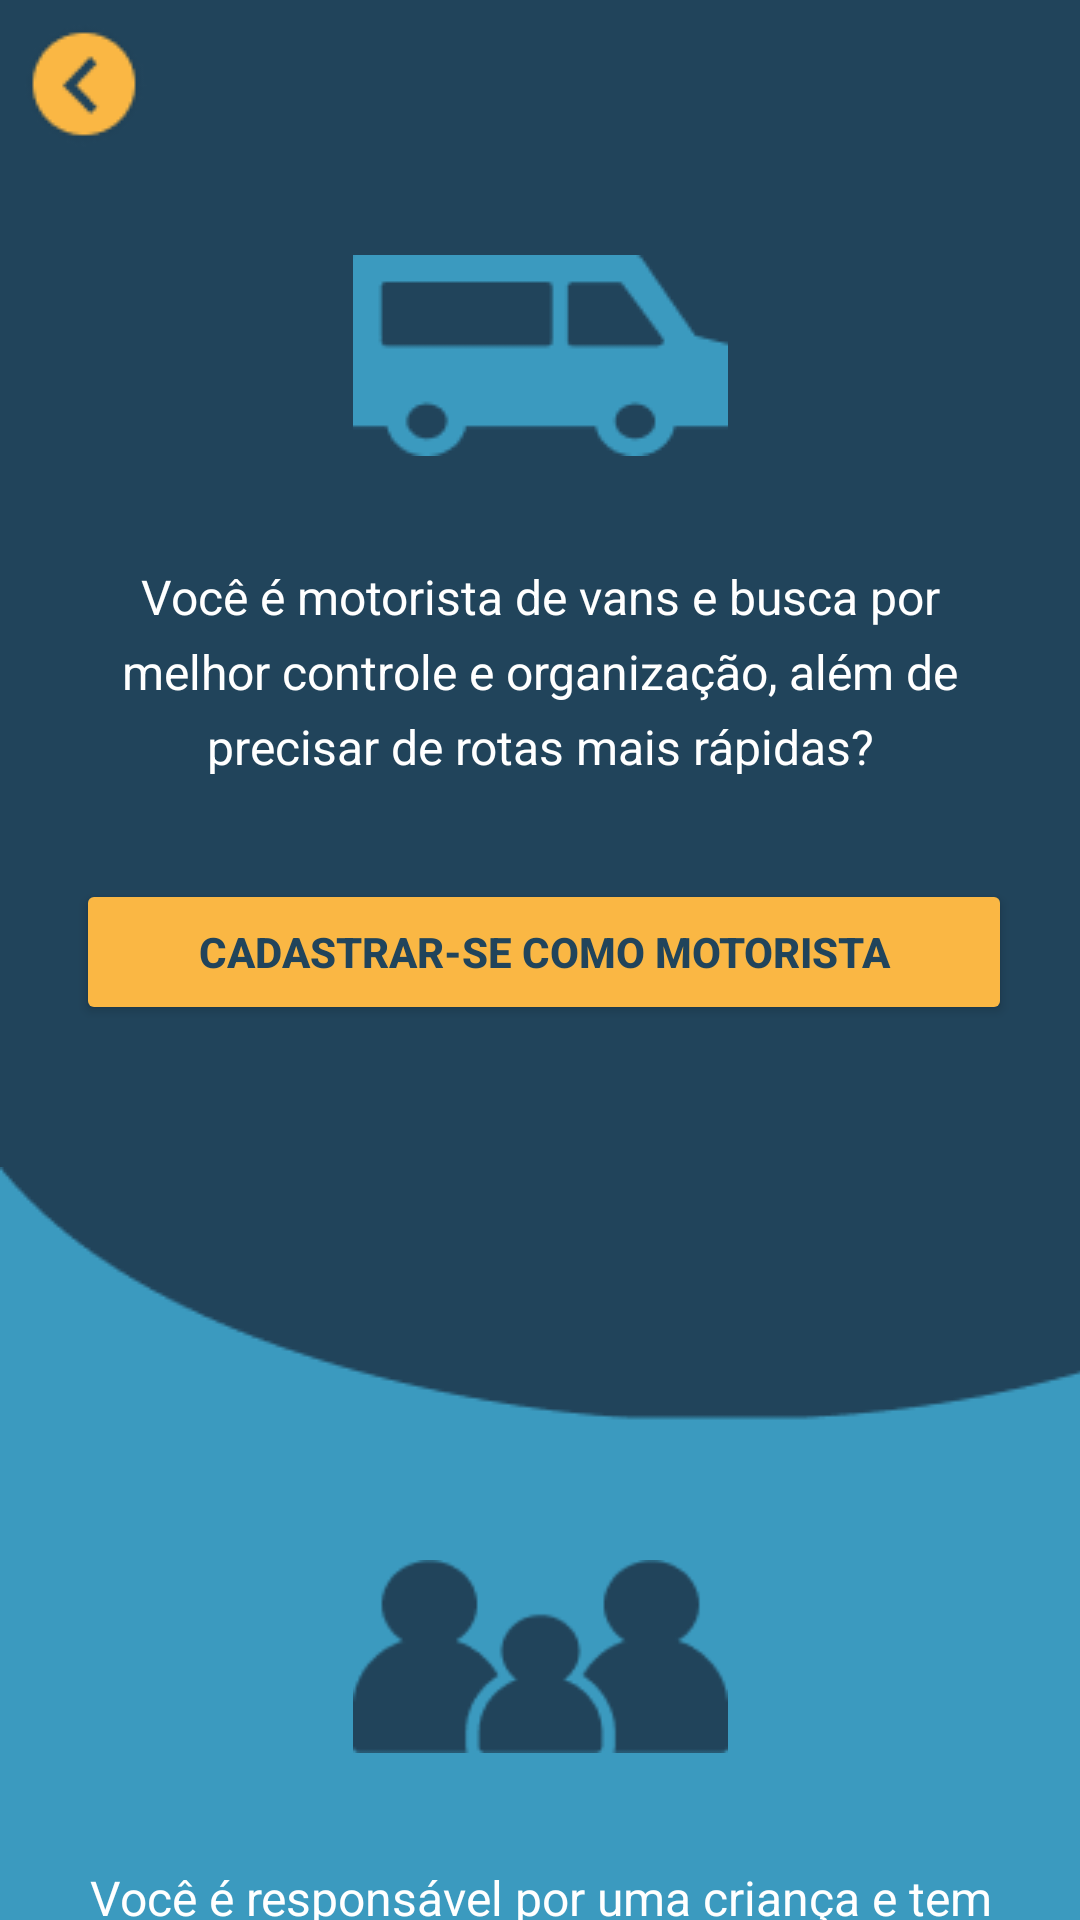

Icons on this 1080×1920 Android screen, each with the point to tap as (x,y):
btngoback: (84,84)
